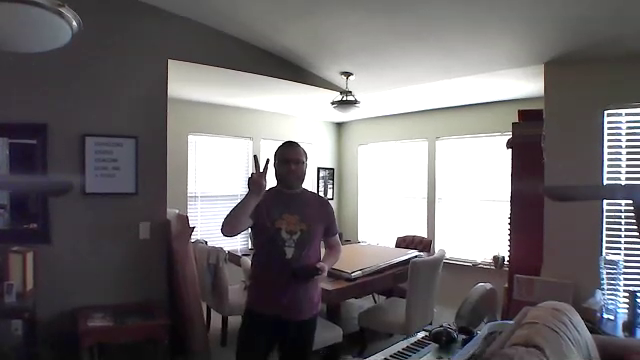peace: (239, 146, 276, 202)
